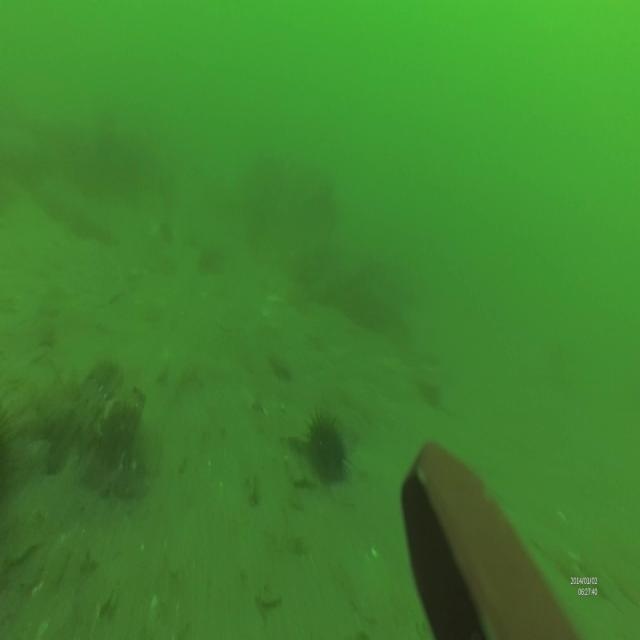echinus: (305, 407, 348, 482)
